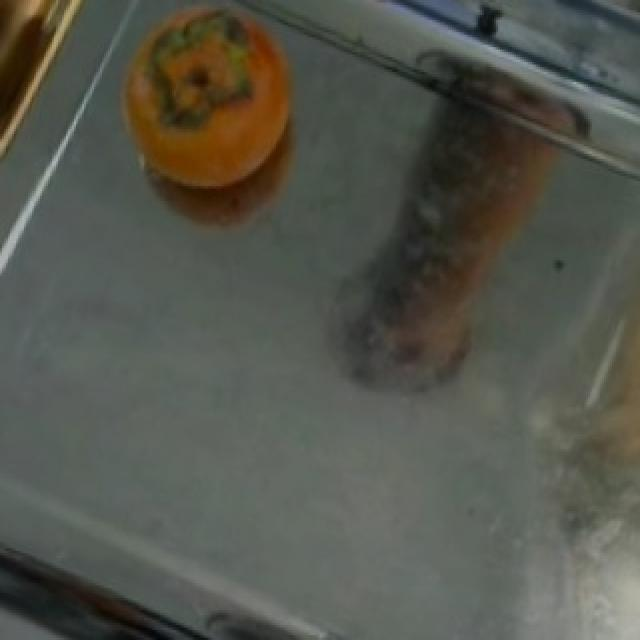Fruit: (92, 0, 318, 216)
